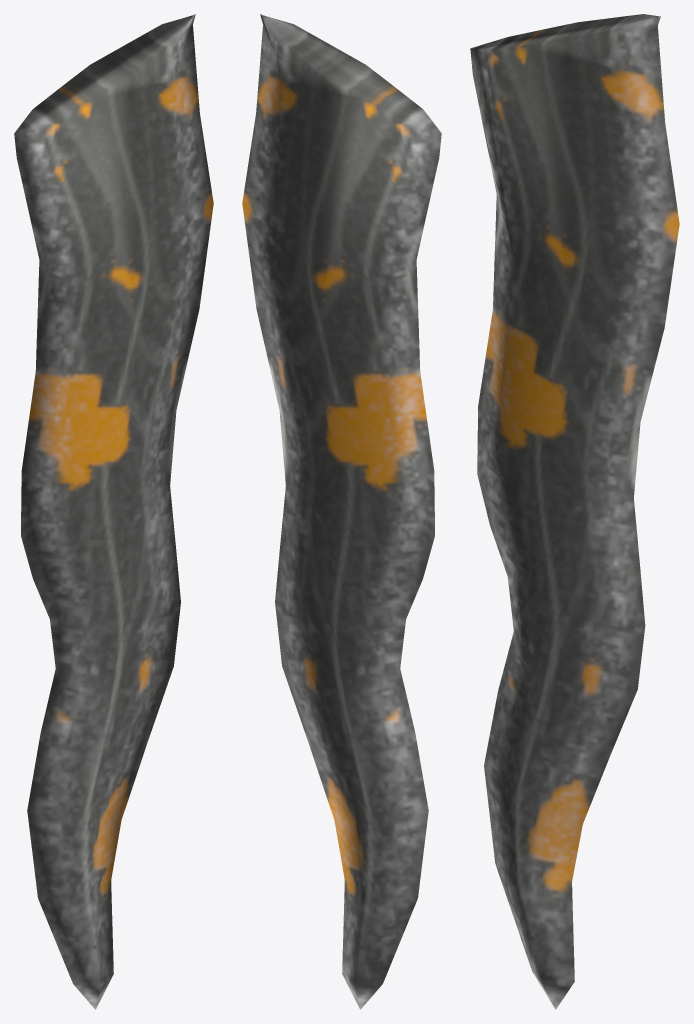
The model's file is Keris_tatarapang4.fbx.
The picture shows the model from 3 angles, left to right: view 1: azimuth 30°, elevation 25°; view 2: azimuth 150°, elevation 25°; view 3: azimuth 330°, elevation 25°; orthographic projection. The views are drawn at different scales.
Visible parts, largest first — view 1: blade-lp.001_Material-Bilah_0.001; view 2: blade-lp.001_Material-Bilah_0.001; view 3: blade-lp.001_Material-Bilah_0.001.
Boxes of the visible parts, x1,y1,x2,y2 form: blade-lp.001_Material-Bilah_0.001: (14, 14, 213, 1009); blade-lp.001_Material-Bilah_0.001: (242, 14, 441, 1009); blade-lp.001_Material-Bilah_0.001: (470, 14, 679, 1009).
Bounding box in the file's own units: 6.56 × 30.55 × 1.54.
Materials: 1 (1 with a texture image).
